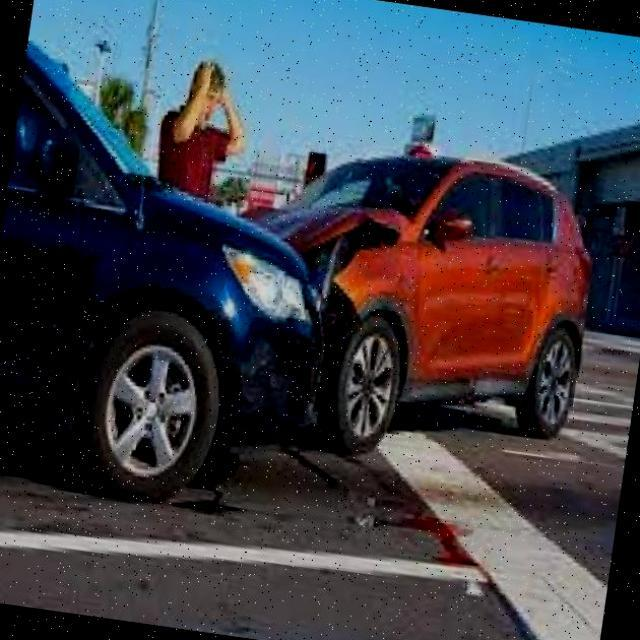accident: (98, 133, 529, 499)
